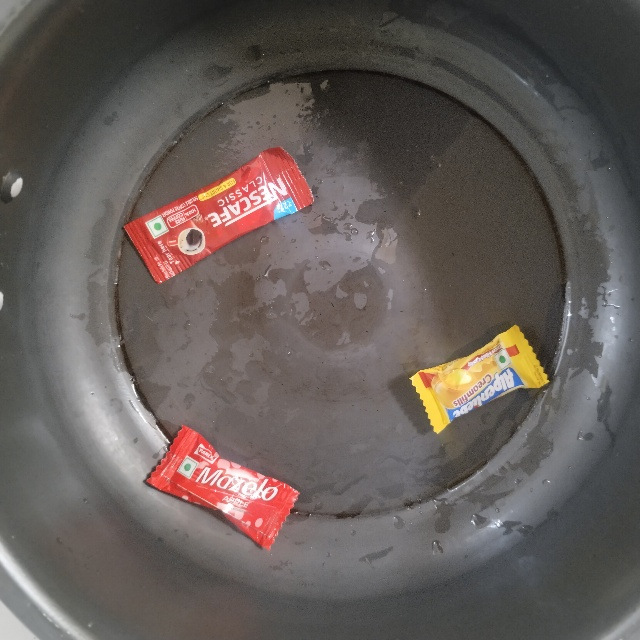Alpenlibe Creamfills: (404, 380, 538, 445)
Mazelo: (176, 421, 328, 487)
Nescafe Coffee: (124, 228, 308, 295)
